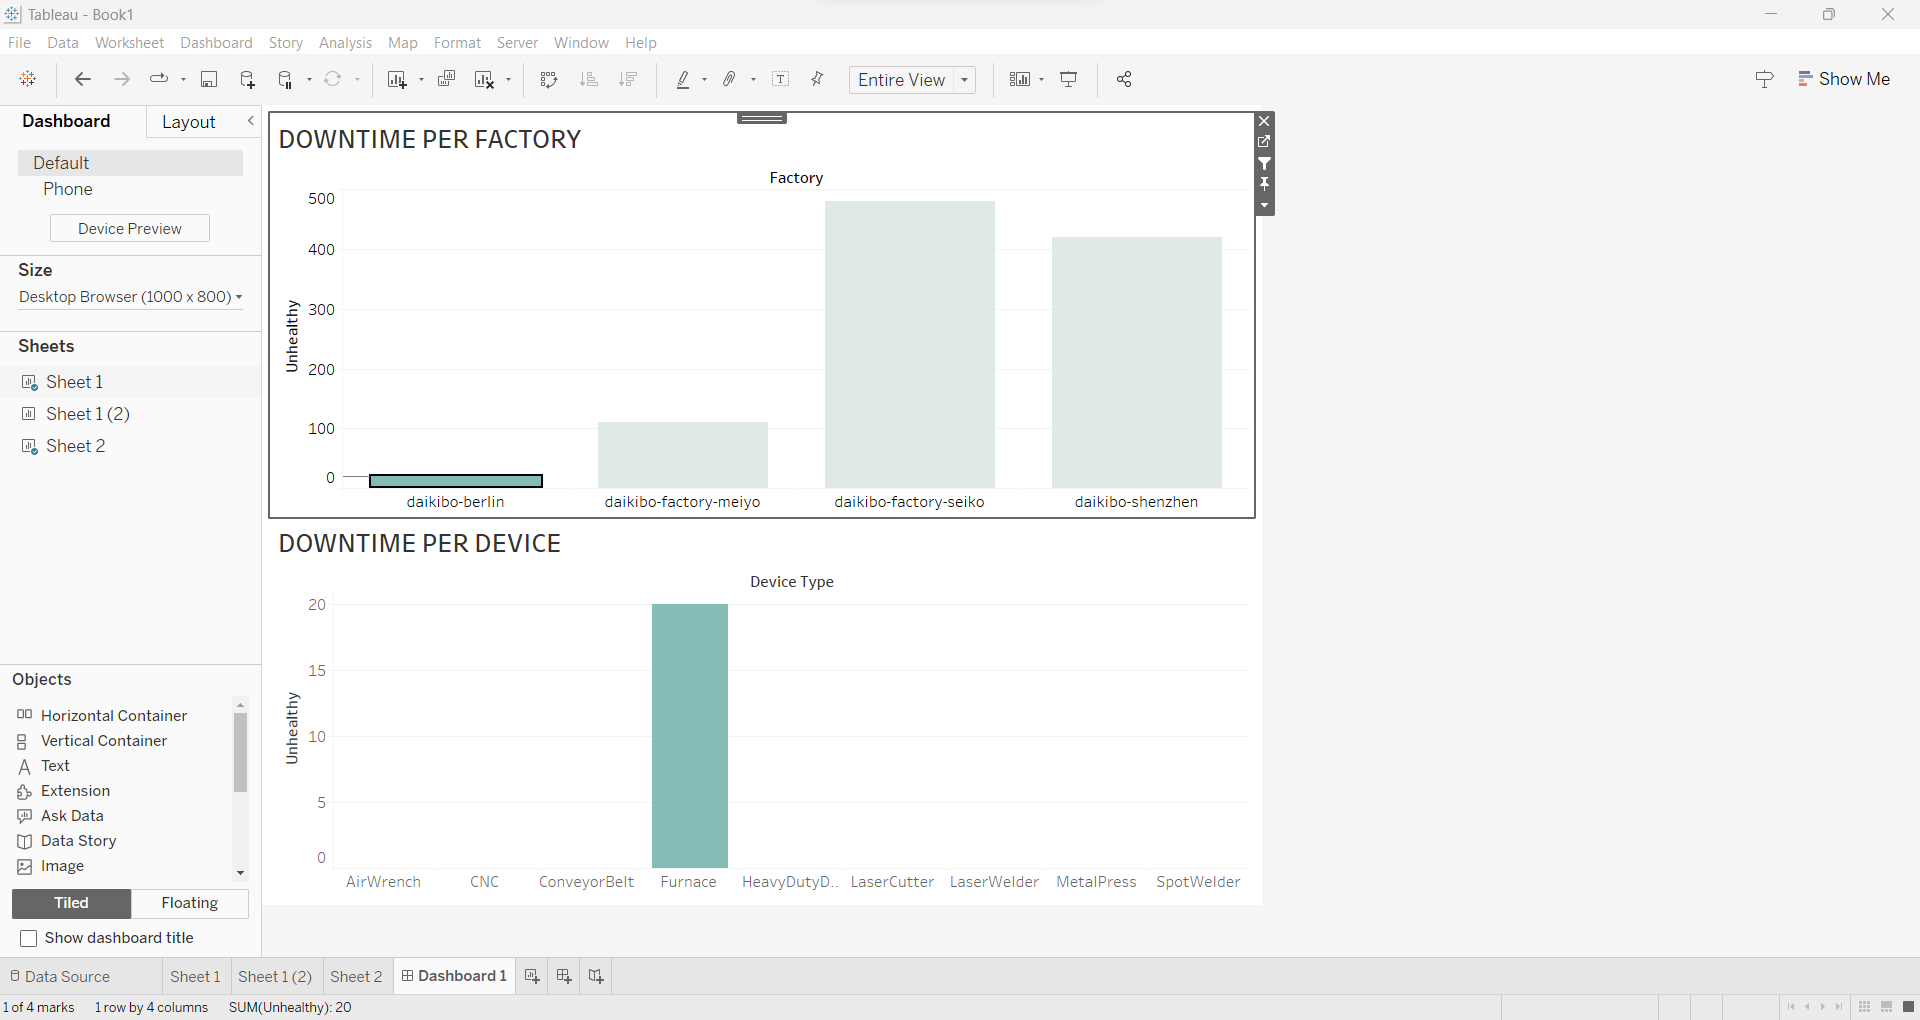

What the dashboard file says about the page in this screenshot:
{"tool":"tableau","page":{"name":"Dashboard 1","canvas":[1000,800],"ordinal":0},"visuals":[{"type":"worksheet","title":"Sheet 1","mark":"Automatic","rows":["Calculation_2538059912631091200"],"cols":["factory"],"box":[8,8,984,404]},{"type":"worksheet","title":"Sheet 2","mark":"Automatic","rows":["Calculation_2538059912631091200"],"cols":["deviceType"],"box":[8,412,984,380]}]}

Visuals, with their boxes on the page's 1000x800 design canvas (x1, y1, x2, y2). These are canvas units, not pixel positions in the 1920x1020 screenshot, which may show the page scaled, cropped or inside an application window:
"Sheet 1" worksheet: 8,8,992,412
"Sheet 2" worksheet: 8,412,992,792
